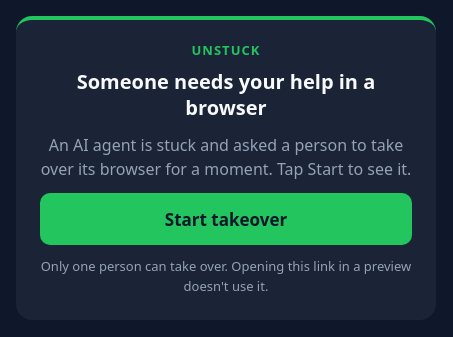
Test case: document.title › I3: a resumable message (connection lost) is not "ended", so the app stays open to read and reopen it
Step 1. Click the button "Start takeover" → click(226, 219), box [40, 193, 412, 245]
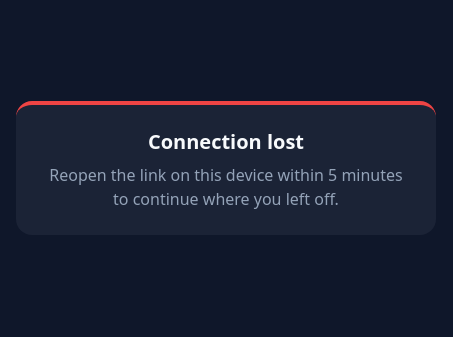
Check: the heading "Connection lost" is shown, box [148, 128, 304, 155]
